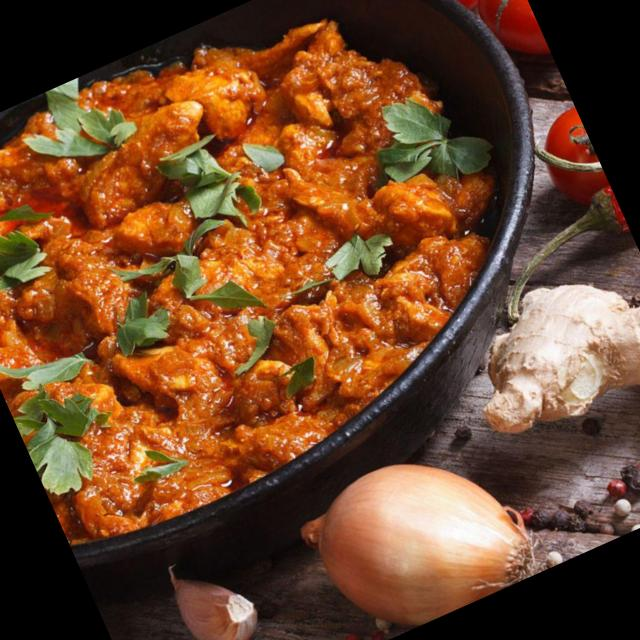chicken: (0, 0, 563, 564)
